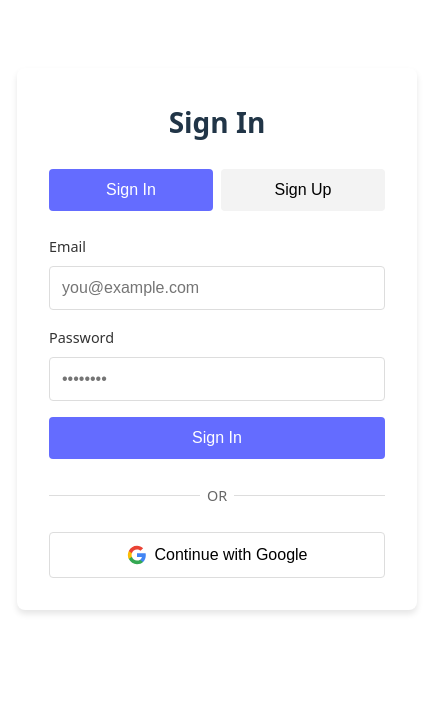
it: LoginPage › validates weak password in sign-up mode
# Click the Sign Up toggle tab
Click the tab "Sign Up": (303, 190) [221,168,385,210]
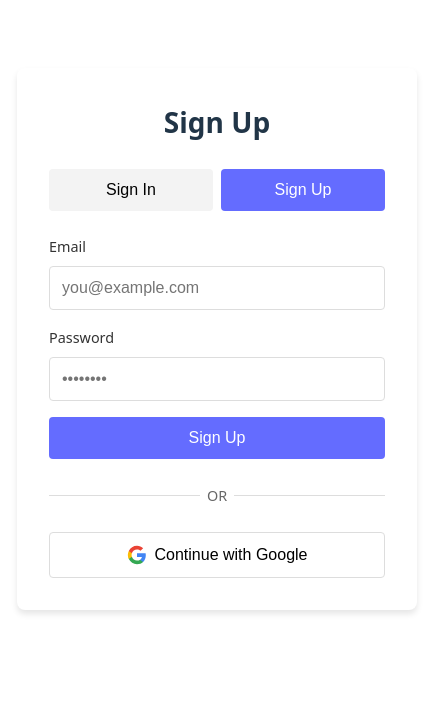
In the field labelled "Email": (217, 288) [49,266,385,310], type "test@example.com"
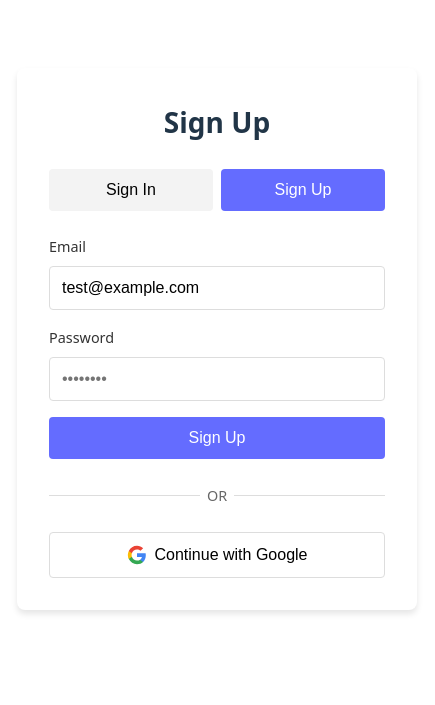
In the password field labelled "Password": (217, 379) [49,357,385,401], type "123"
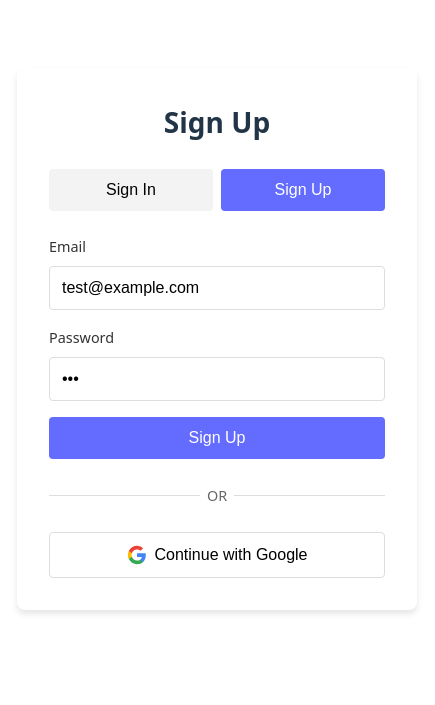
Click the button "Sign Up": (217, 438) [49,417,385,459]
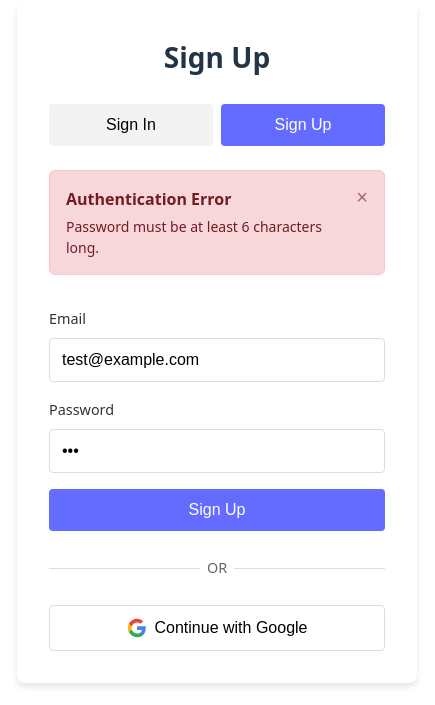
Expected: the text "Password must be at least 6 characters long." is shown, [66,216,340,258]
